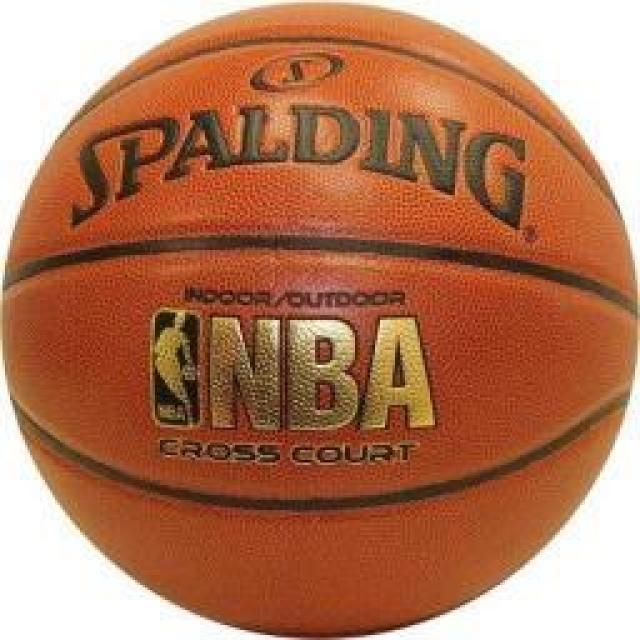Basketball: (4, 5, 632, 637)
